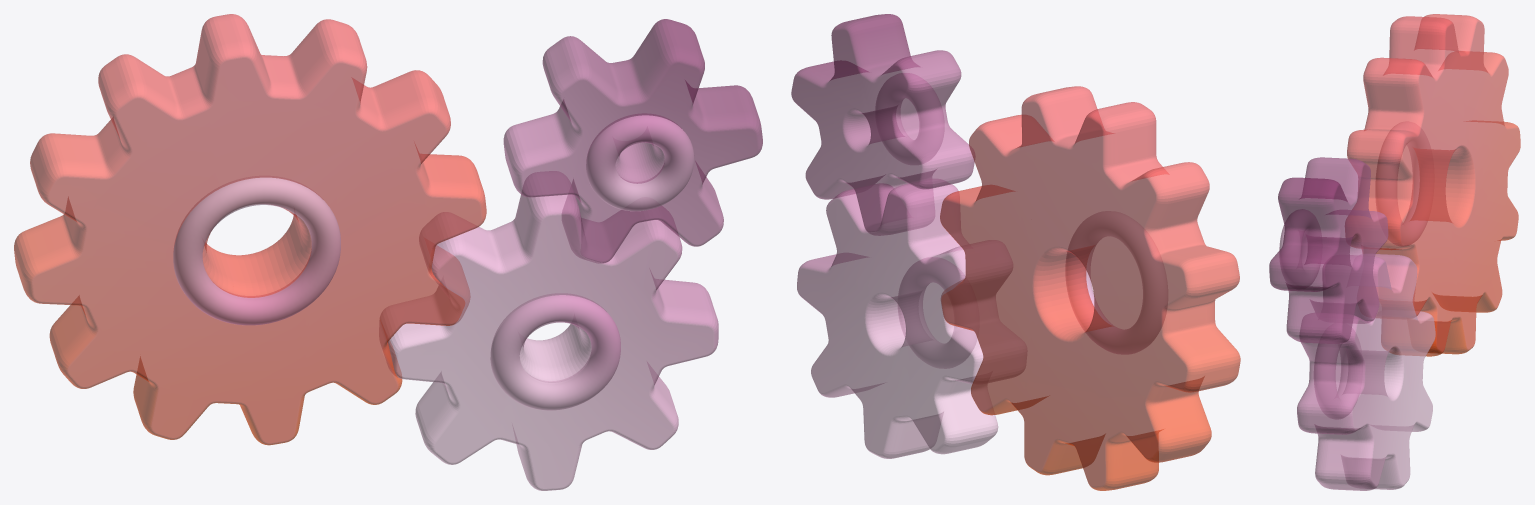
Rendered from turning-gears.glb.
3 views of the same model, side by side, from view 1: azimuth 30°, elevation 25°; view 2: azimuth 150°, elevation 25°; view 3: azimuth 270°, elevation 25° (orthographic). The views are drawn at different scales.
Visible parts, largest first — view 1: gear_large, gear_medium, gear_small, gear_large_hub, gear_medium_hub, gear_small_hub; view 2: gear_large, gear_medium, gear_small, gear_large_hub, gear_small_hub, gear_medium_hub; view 3: gear_large, gear_medium, gear_small, gear_large_hub, gear_medium_hub, gear_small_hub.
Boxes of the visible parts, <box> form: gear_large: <box>14,14,486,445</box>; gear_medium: <box>379,171,718,490</box>; gear_small: <box>503,19,762,262</box>; gear_large_hub: <box>173,176,340,325</box>; gear_medium_hub: <box>490,294,620,410</box>; gear_small_hub: <box>586,114,694,211</box>; gear_large: <box>940,86,1240,490</box>; gear_medium: <box>797,179,1026,458</box>; gear_small: <box>791,14,974,235</box>; gear_large_hub: <box>1066,211,1167,353</box>; gear_small_hub: <box>876,73,943,164</box>; gear_medium_hub: <box>898,257,976,368</box>; gear_large: <box>1345,14,1520,356</box>; gear_medium: <box>1297,254,1435,490</box>; gear_small: <box>1269,157,1388,344</box>; gear_large_hub: <box>1376,122,1430,245</box>; gear_medium_hub: <box>1314,328,1360,418</box>; gear_small_hub: <box>1279,209,1321,285</box>.
Size of the model in its own units: 1.06 by 0.8124 by 0.5048.
